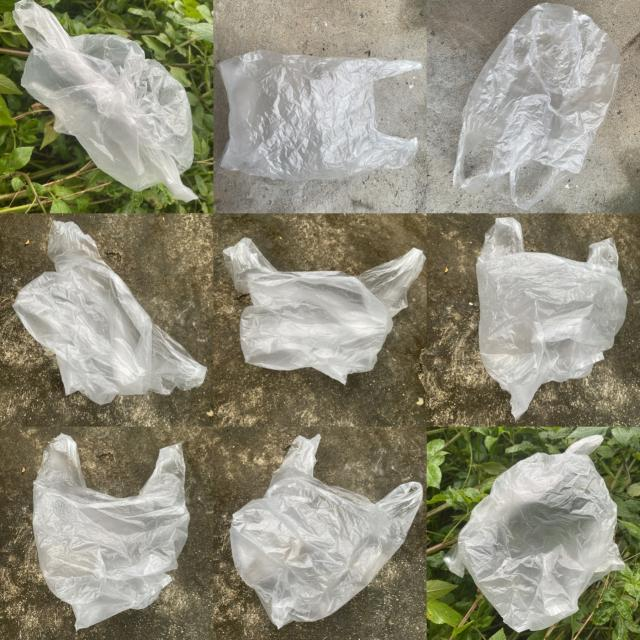Single-layer Plastic: (230, 435, 422, 629), (14, 0, 198, 201), (14, 221, 206, 404), (445, 435, 624, 631), (454, 2, 620, 209), (32, 434, 190, 629), (476, 218, 628, 419), (222, 238, 425, 384), (219, 50, 421, 181)
